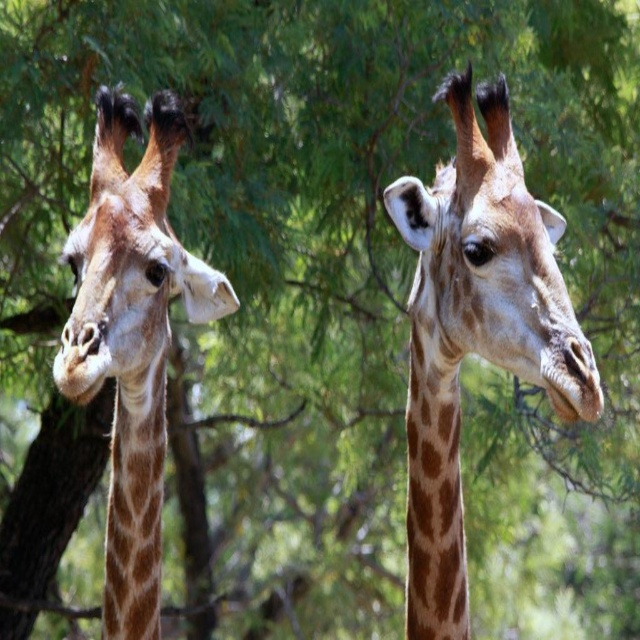Giraffe: (384, 55, 606, 639), (48, 87, 240, 639)
